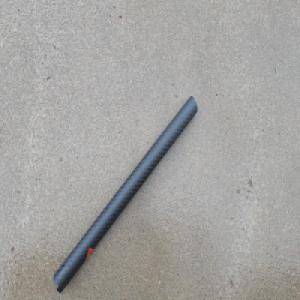LuggagePart: (53, 92, 198, 290)
